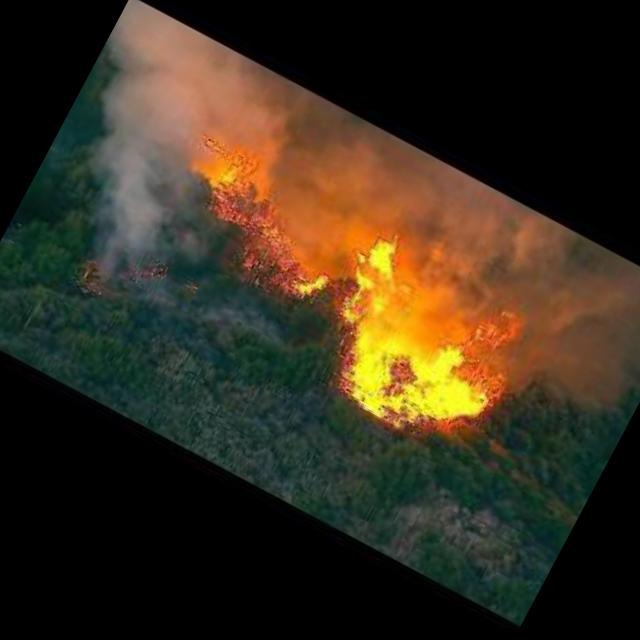fire: (133, 132, 537, 456)
